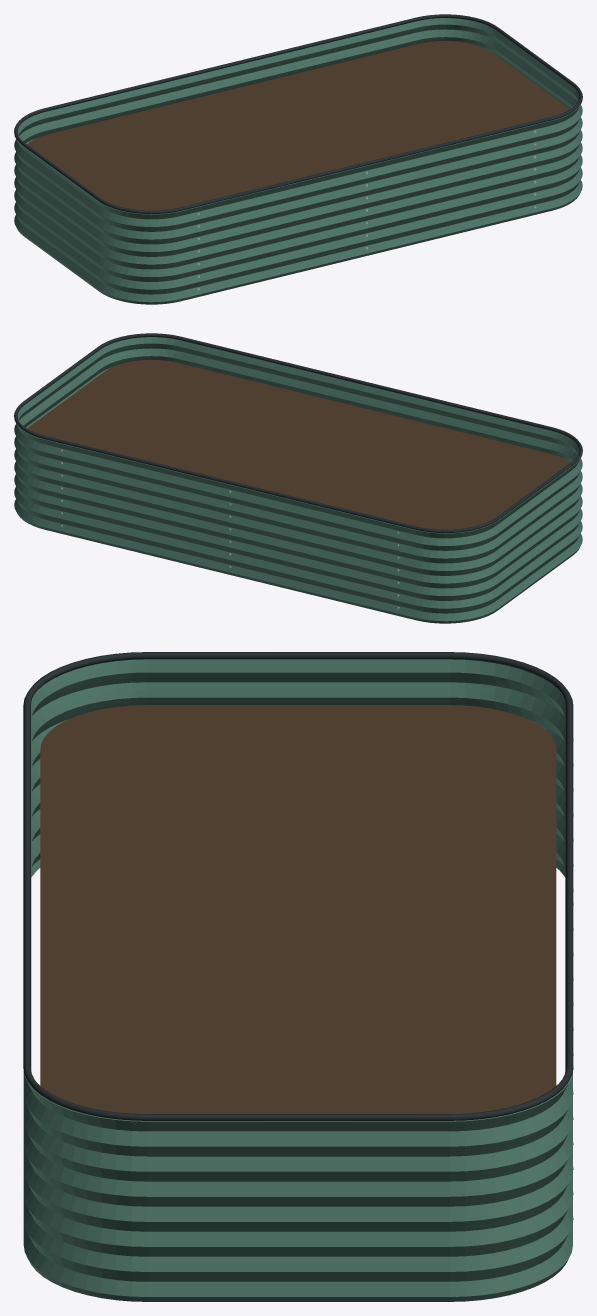
The model's file is outdoor-raised-garden-bed.glb.
3 views of the same model, one above another, from view 1: azimuth 30°, elevation 25°; view 2: azimuth 150°, elevation 25°; view 3: azimuth 270°, elevation 25° (orthographic). The views are drawn at different scales.
Visible parts, largest first — view 1: catalog_surface_RealismUV, catalog_surface_UVMap; view 2: catalog_surface_RealismUV, catalog_surface_UVMap; view 3: catalog_surface_RealismUV, catalog_surface_UVMap.
Boxes of the visible parts, left/top/right/bottom form: catalog_surface_RealismUV: left=14, top=18, right=582, bottom=304; catalog_surface_UVMap: left=14, top=14, right=582, bottom=213; catalog_surface_RealismUV: left=14, top=337, right=582, bottom=623; catalog_surface_UVMap: left=14, top=333, right=582, bottom=532; catalog_surface_RealismUV: left=23, top=659, right=573, bottom=1301; catalog_surface_UVMap: left=23, top=652, right=573, bottom=1120.
Bounding box in the file's own units: 2.4 × 0.45 × 1.2.
